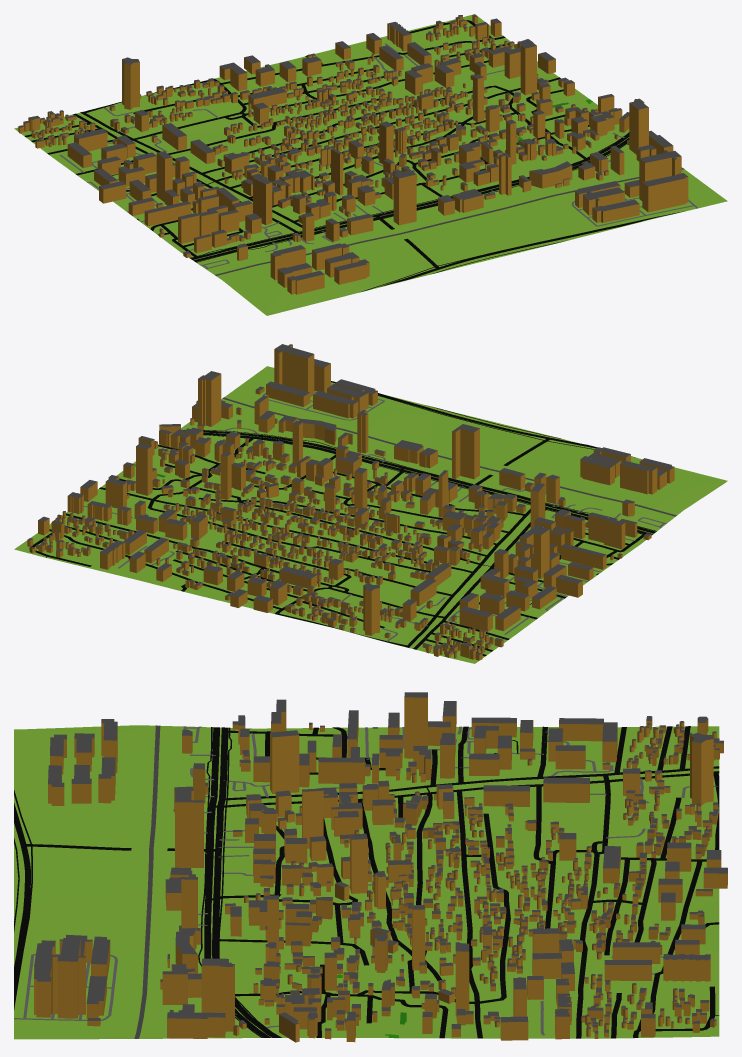
File: tile_09_03.glb
The picture shows the model from 3 angles, top to bottom: view 1: azimuth 30°, elevation 25°; view 2: azimuth 150°, elevation 25°; view 3: azimuth 270°, elevation 25°; orthographic projection. The views are drawn at different scales.
Parts seen in each view (by area): view 1: Ub_small.osm_buildings_09_03, Terrain_09_03, Ub_small.osm_roads_residential_09_03, Ub_small.osm_roads_service_09_03, Ub_small.osm_roads_primary_09_03, Ub_small.osm_roads_secondary_09_03, Ub_small.osm_railways_09_03, Ub_small.osm_paths_footway_09_03; view 2: Ub_small.osm_buildings_09_03, Terrain_09_03, Ub_small.osm_roads_residential_09_03, Ub_small.osm_roads_primary_09_03, Ub_small.osm_roads_service_09_03, Ub_small.osm_roads_secondary_09_03, Ub_small.osm_paths_footway_09_03, Ub_small.osm_railways_09_03; view 3: Ub_small.osm_buildings_09_03, Terrain_09_03, Ub_small.osm_roads_residential_09_03, Ub_small.osm_roads_primary_09_03, Ub_small.osm_roads_service_09_03, Ub_small.osm_railways_09_03, Ub_small.osm_roads_secondary_09_03, Ub_small.osm_paths_footway_09_03.
Part boxes in pixels (box(x1,y1,x2,y2)): Ub_small.osm_buildings_09_03: box(18, 14, 688, 294); Terrain_09_03: box(14, 14, 727, 315); Ub_small.osm_roads_residential_09_03: box(24, 20, 588, 257); Ub_small.osm_roads_service_09_03: box(59, 43, 698, 269); Ub_small.osm_roads_primary_09_03: box(190, 133, 629, 261); Ub_small.osm_roads_secondary_09_03: box(375, 213, 675, 286); Ub_small.osm_railways_09_03: box(215, 168, 684, 275); Ub_small.osm_paths_footway_09_03: box(112, 22, 629, 274); Ub_small.osm_buildings_09_03: box(27, 344, 674, 660); Terrain_09_03: box(14, 366, 727, 663); Ub_small.osm_roads_residential_09_03: box(29, 437, 645, 656); Ub_small.osm_roads_primary_09_03: box(203, 430, 655, 534); Ub_small.osm_roads_service_09_03: box(84, 391, 666, 641); Ub_small.osm_roads_secondary_09_03: box(331, 381, 597, 485); Ub_small.osm_paths_footway_09_03: box(46, 405, 656, 604); Ub_small.osm_railways_09_03: box(222, 397, 676, 516); Ub_small.osm_buildings_09_03: box(34, 692, 727, 1042); Terrain_09_03: box(14, 725, 719, 1039); Ub_small.osm_roads_residential_09_03: box(212, 726, 719, 1038); Ub_small.osm_roads_primary_09_03: box(204, 727, 279, 1037); Ub_small.osm_roads_service_09_03: box(14, 726, 717, 1035); Ub_small.osm_railways_09_03: box(134, 725, 160, 1038); Ub_small.osm_roads_secondary_09_03: box(14, 803, 218, 1004); Ub_small.osm_paths_footway_09_03: box(14, 727, 719, 1037).
Bounding box in the file's own units: 1012 × 101 × 942.
